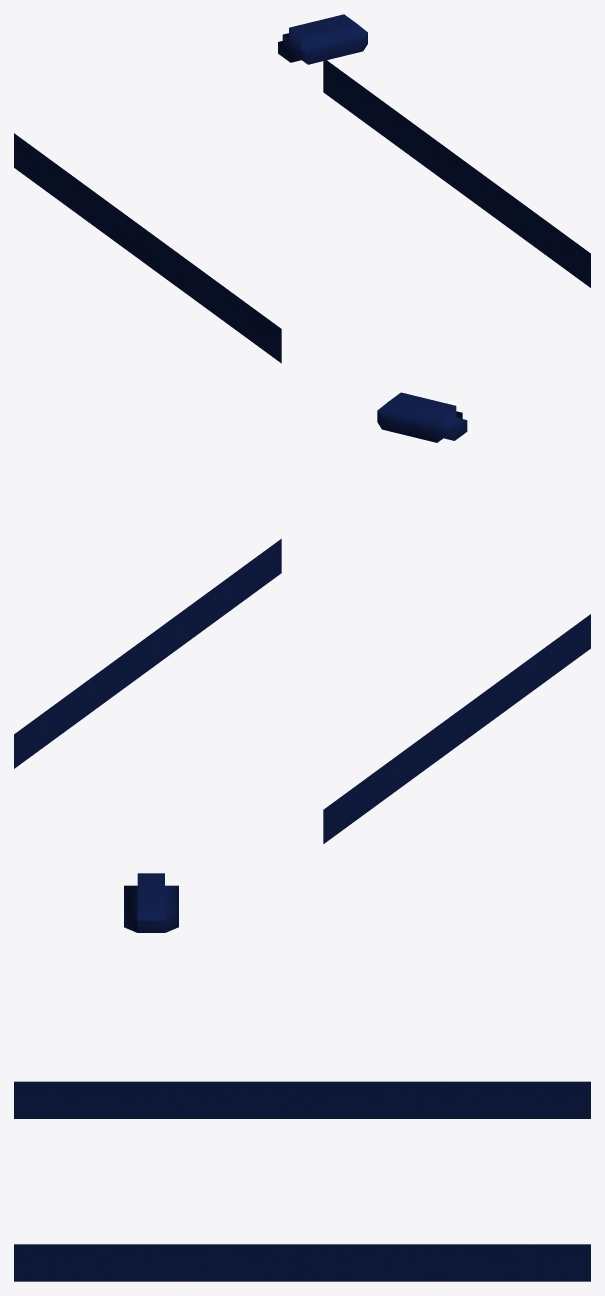
3 renders of one model, top to bottom at view 1: azimuth 30°, elevation 25°; view 2: azimuth 150°, elevation 25°; view 3: azimuth 270°, elevation 25°, orthographic. The views are drawn at different scales.
Bounding box in the file's own units: 2.24 × 1.84 × 3.36.
Materials: 1 (1 with a texture image).
